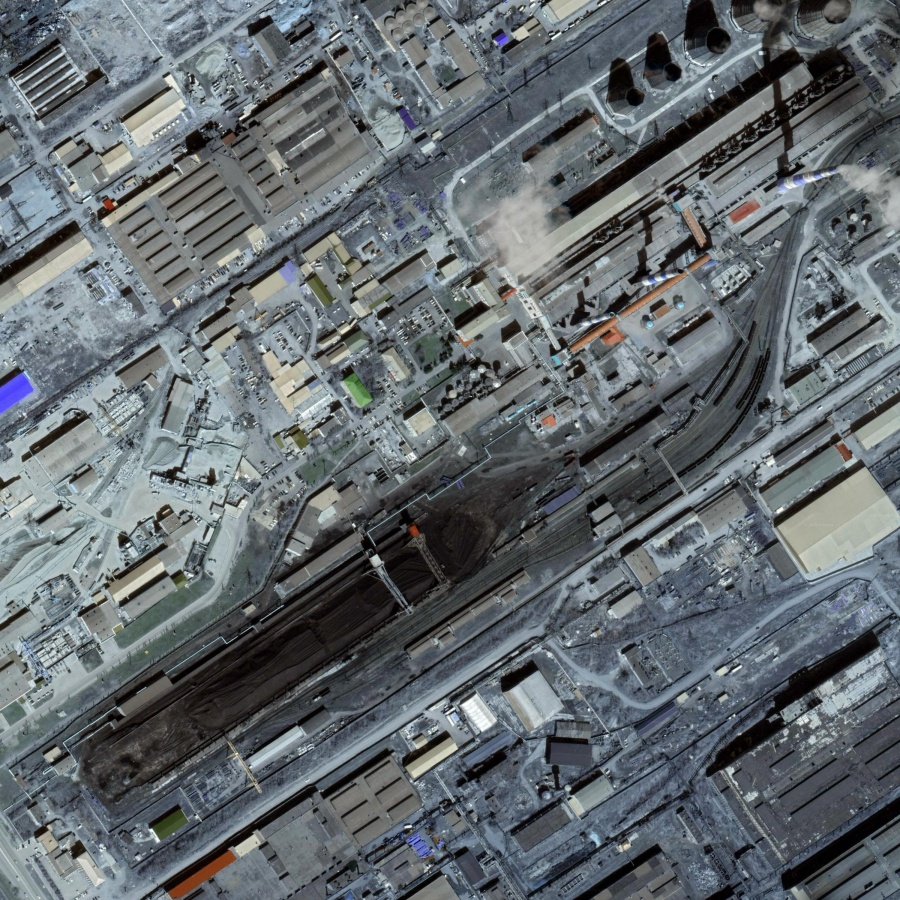PowerPlant: (56, 448, 528, 818)
